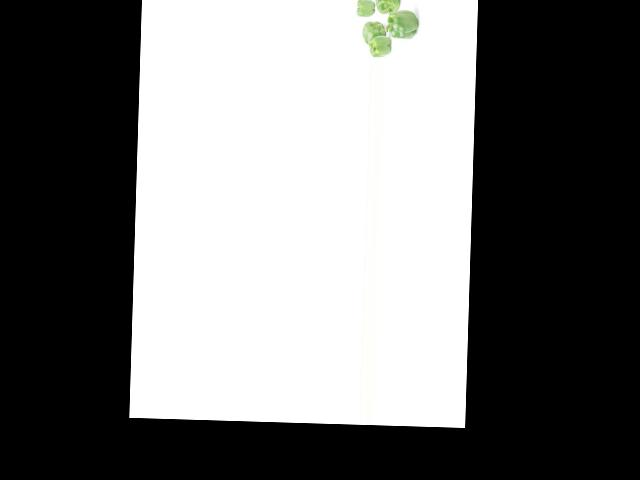bell_pepper: (369, 33, 394, 58)
